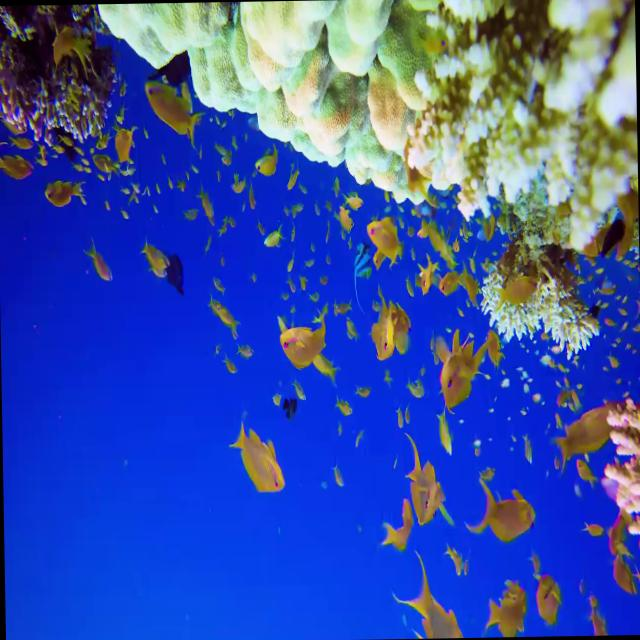fish: (552, 401, 629, 466), (406, 432, 452, 531), (408, 567, 466, 638), (436, 326, 482, 412), (232, 426, 287, 496), (478, 481, 538, 542), (144, 80, 200, 142), (370, 294, 414, 361), (280, 312, 331, 369), (529, 546, 561, 628), (486, 578, 526, 638), (140, 244, 188, 290), (366, 213, 403, 262), (380, 501, 412, 549), (42, 173, 82, 206)
